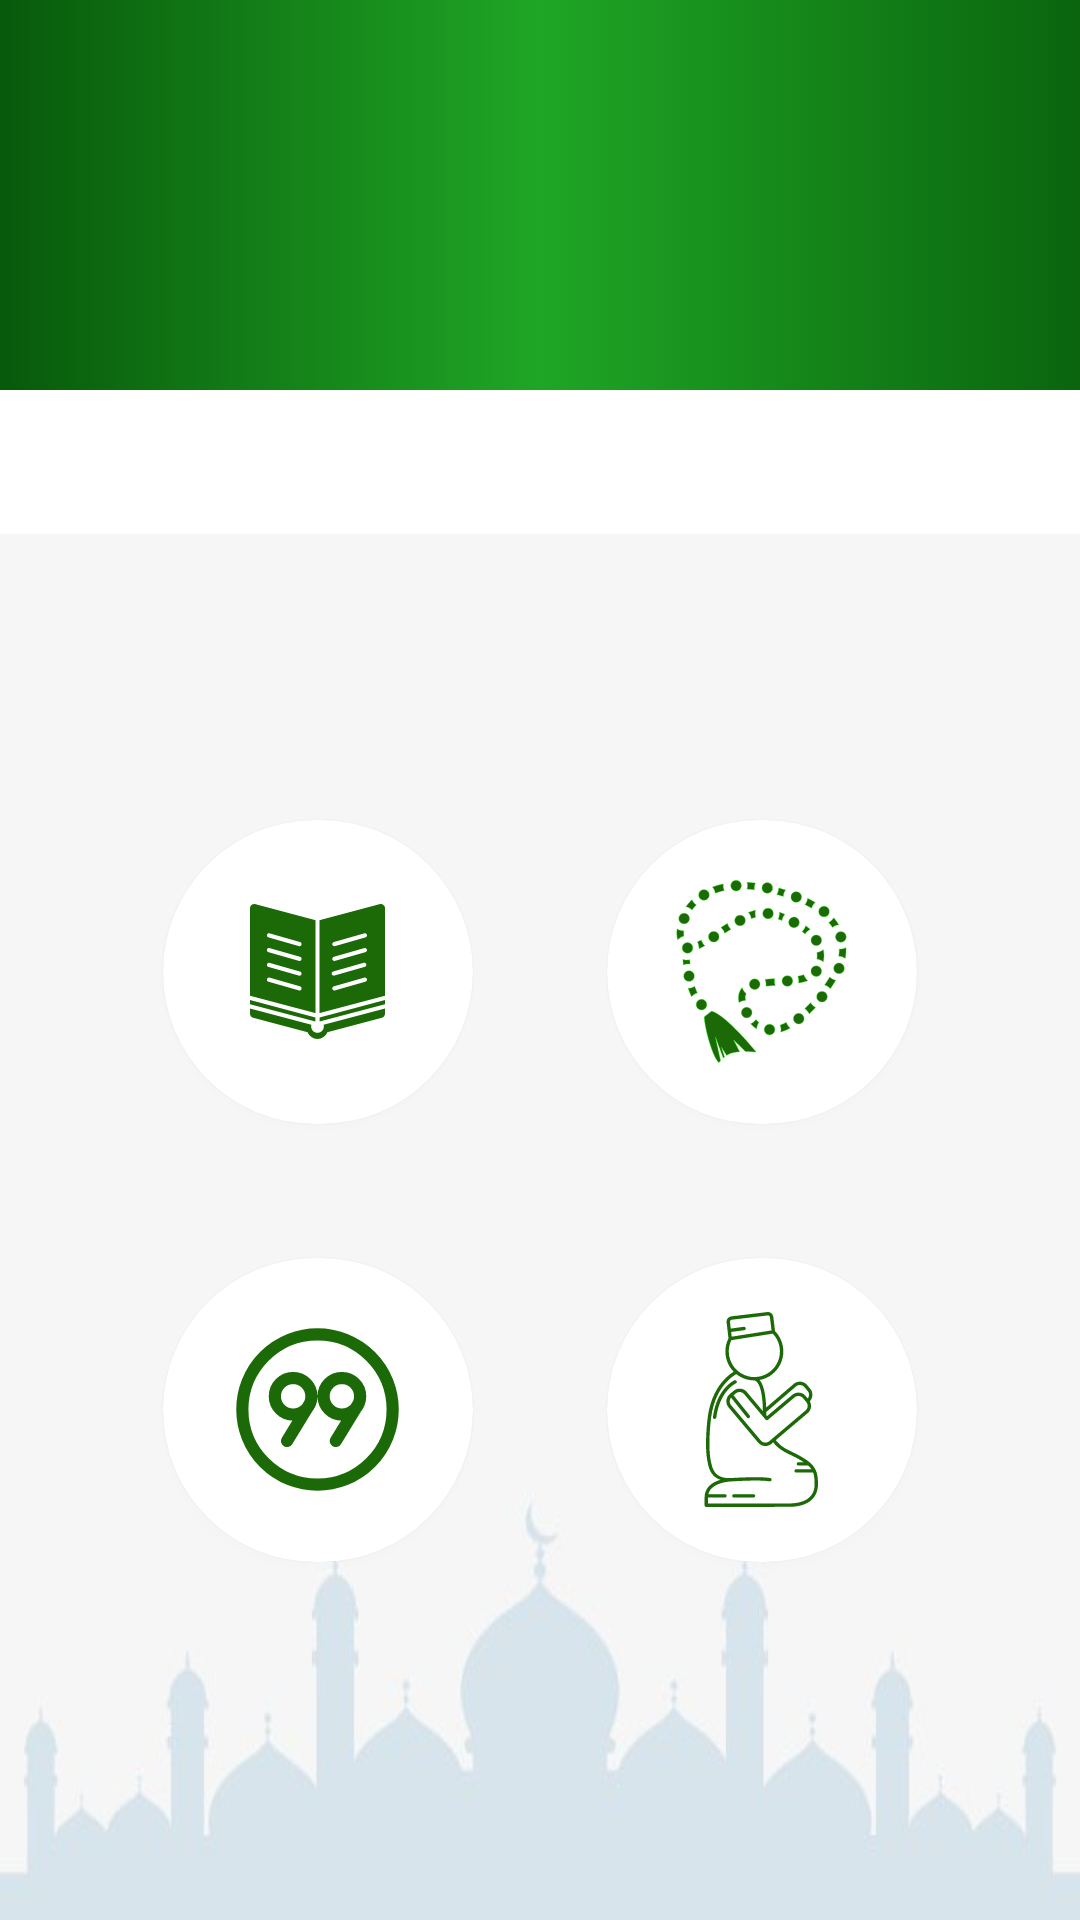

Icons on this 1080 x 1920 Android screen, each with the point to tap as (x=x, y=y):
book opened: (x=317, y=971)
muslim man praying: (x=761, y=1409)
prayer beads: (x=761, y=971)
